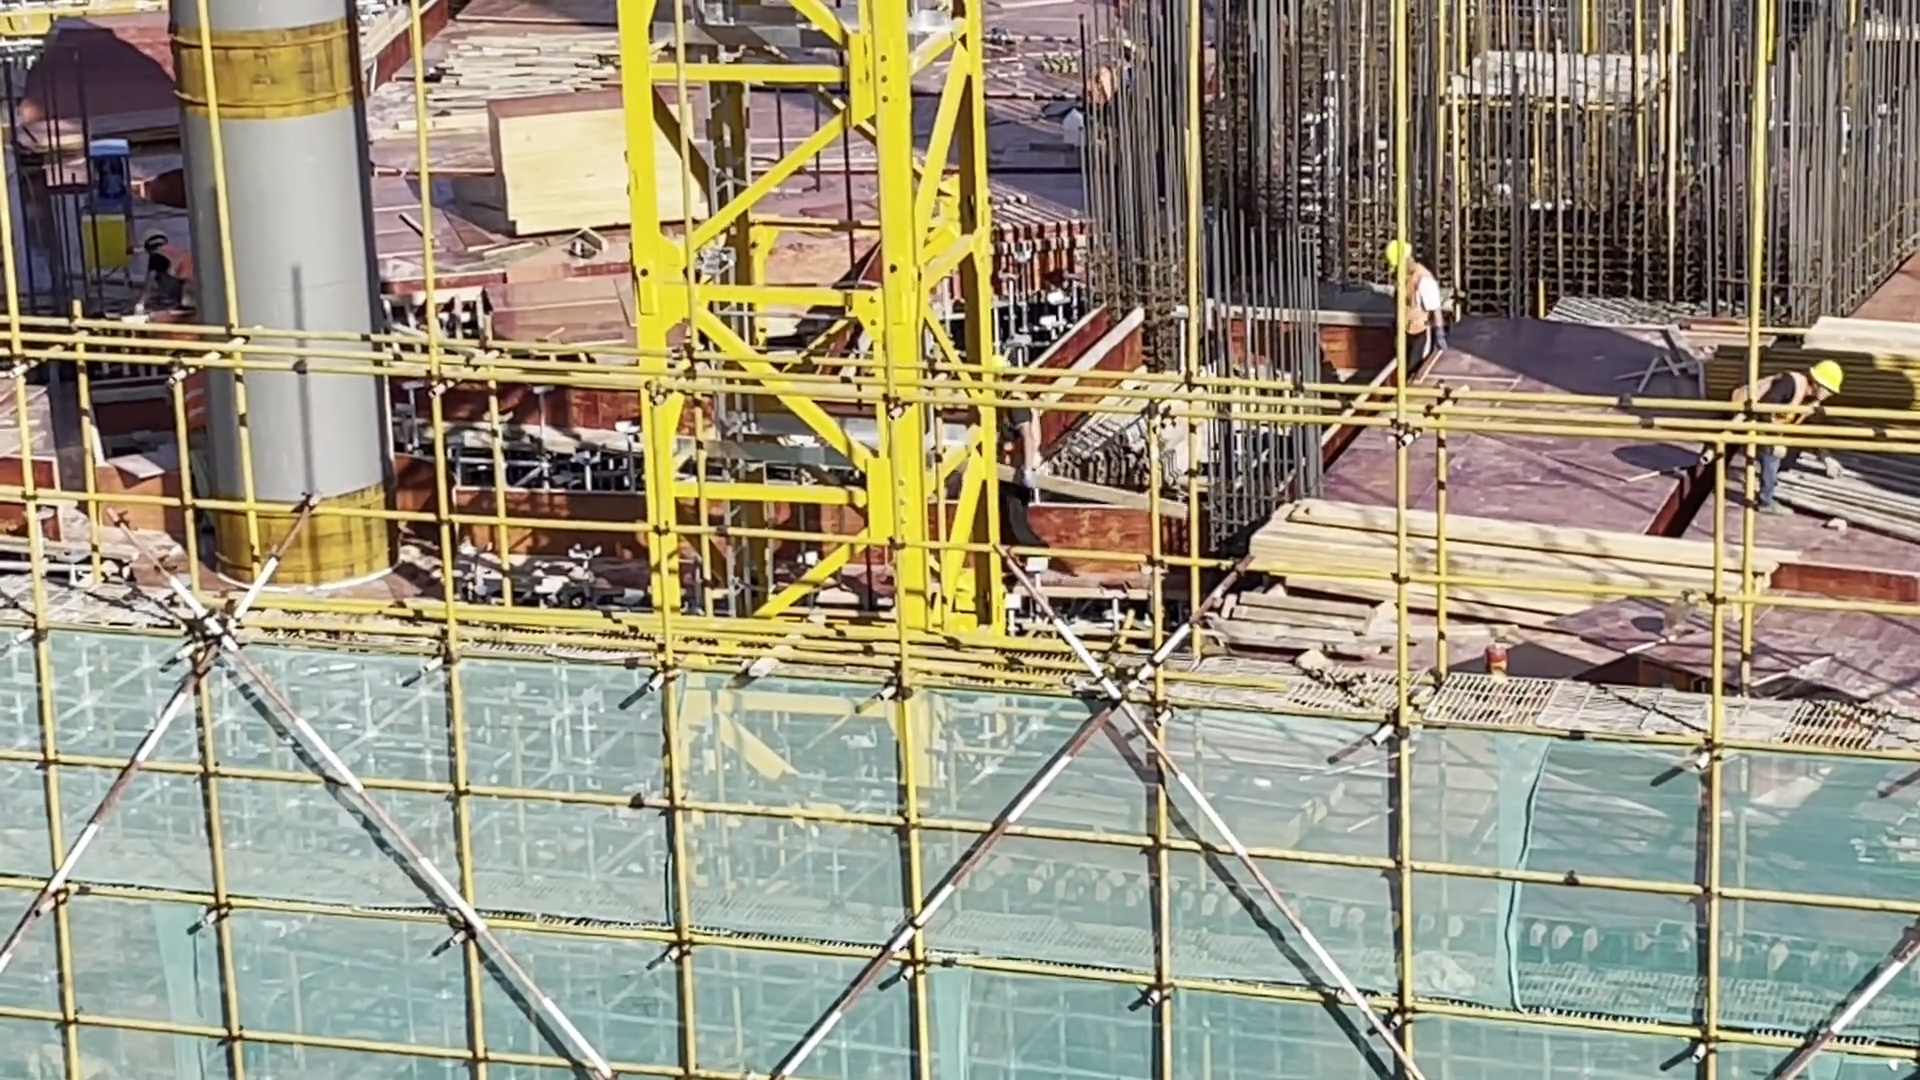board: (1228, 490, 1732, 686)
helmet: (1800, 355, 1843, 407), (1377, 239, 1408, 276), (138, 227, 168, 250)
person: (1718, 361, 1846, 521), (1384, 242, 1452, 378), (125, 227, 199, 304)
vest: (1741, 372, 1805, 437), (1392, 271, 1437, 340), (153, 251, 188, 284)
